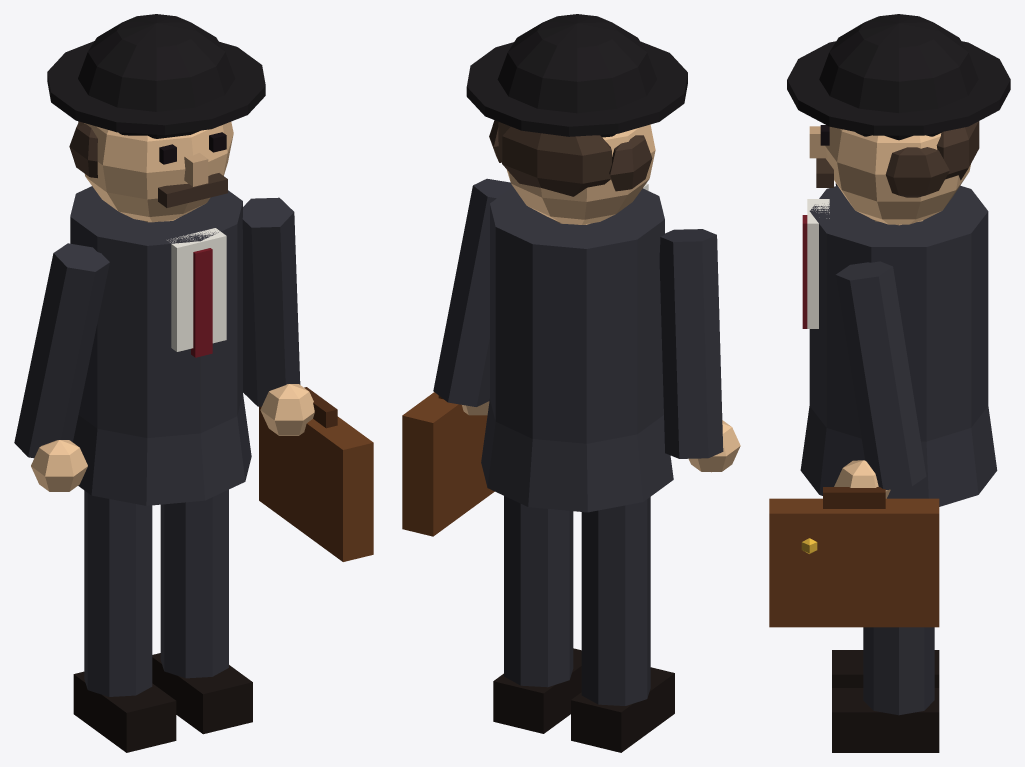
Rendered from postac_dmowski.glb.
3 views of the same model, side by side, from view 1: azimuth 30°, elevation 25°; view 2: azimuth 150°, elevation 25°; view 3: azimuth 270°, elevation 25° (orthographic).
Parts seen in each view (by area): view 1: cialo, reka_p, noga_l, noga_p, reka_l; view 2: cialo, reka_p, noga_l, noga_p, reka_l; view 3: cialo, reka_p, noga_p, noga_l.
Part boxes in pixels (box(x1,y1,x2,y2)): cialo: box(47, 14, 265, 505); reka_p: box(242, 197, 373, 561); noga_l: box(73, 490, 176, 752); noga_p: box(152, 489, 252, 734); reka_l: box(14, 243, 109, 491); cialo: box(466, 14, 687, 512); reka_p: box(402, 178, 512, 536); noga_l: box(571, 497, 674, 752); noga_p: box(493, 496, 581, 733); reka_l: box(659, 229, 740, 472); cialo: box(787, 14, 1010, 506); reka_p: box(769, 261, 939, 627); noga_p: box(832, 627, 939, 752); noga_l: box(832, 650, 939, 687).
Bounding box in the file's own units: 0.7736 × 1.72 × 0.54.
